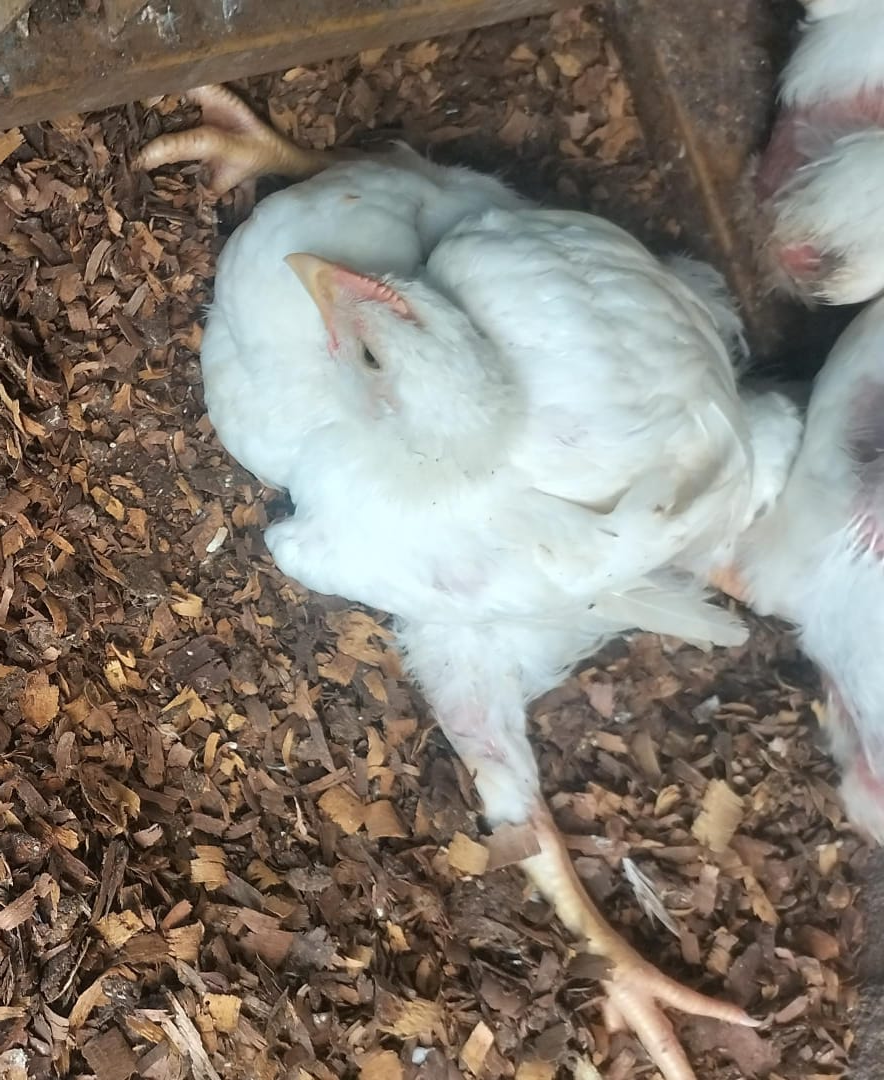Unhealthy: (182, 125, 796, 1061)
